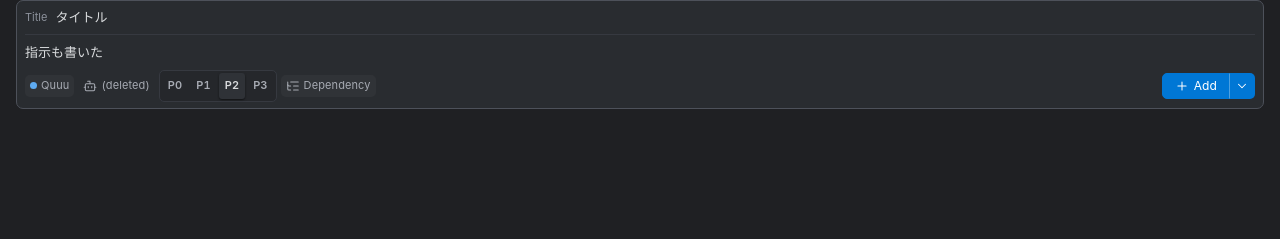
Test case: choosing how to queue › lists the four outcomes and marks the one that would be pressed now
Click the button named "How to add": (1242, 86) [1229,73,1255,99]
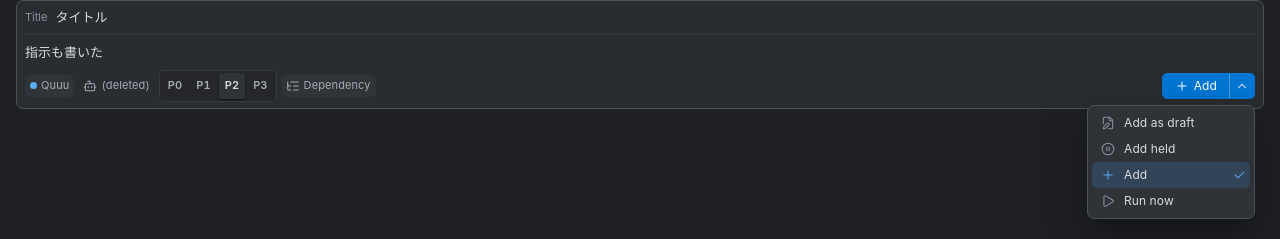
Result: the menu item "Add as draft" is shown at [1092,110,1250,136]
